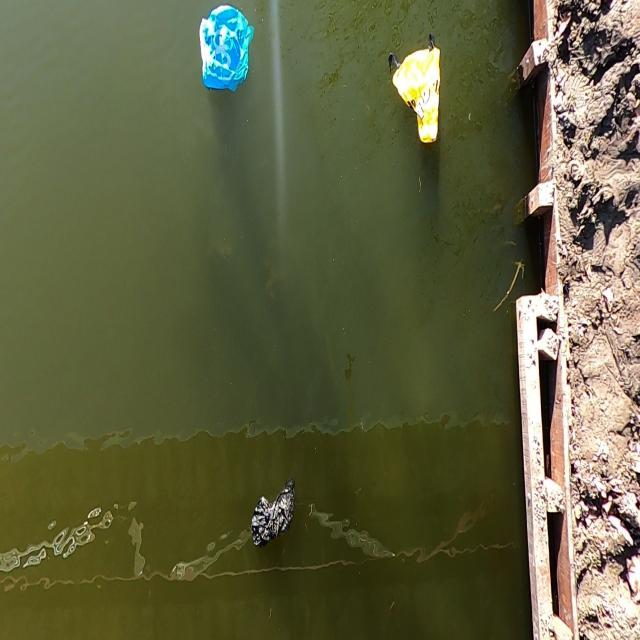Sac plastique: (387, 27, 445, 154), (195, 1, 258, 99), (247, 474, 300, 555)
